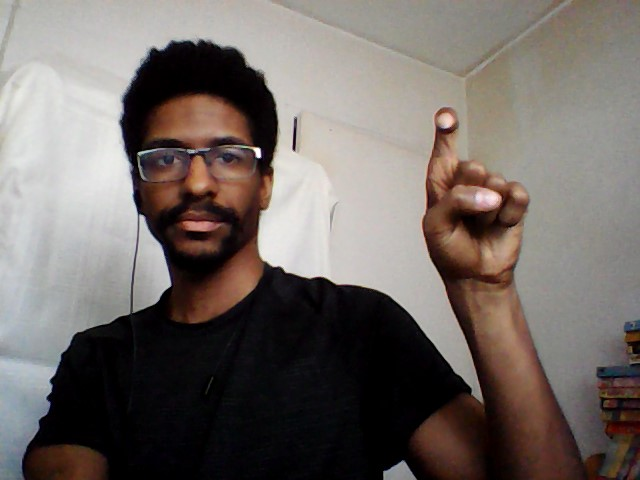x: (418, 104, 534, 287)
